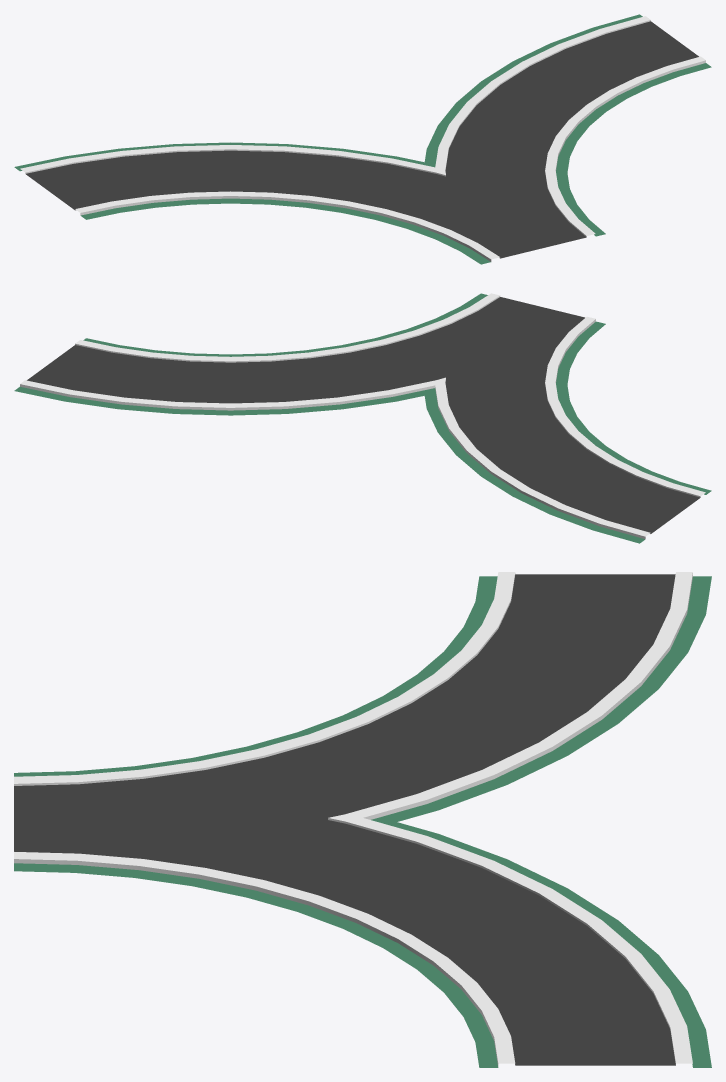
The model's file is roadSplitRoundLarge.glb.
3 renders of one model, top to bottom at view 1: azimuth 30°, elevation 25°; view 2: azimuth 150°, elevation 25°; view 3: azimuth 270°, elevation 25°, orthographic. The views are drawn at different scales.
Visible parts, largest first — view 1: roadSplitRoundLarge(Clone); view 2: roadSplitRoundLarge(Clone); view 3: roadSplitRoundLarge(Clone).
Boxes of the visible parts, x1,y1,x2,y2 form: roadSplitRoundLarge(Clone): (14,14,711,264); roadSplitRoundLarge(Clone): (14,293,711,543); roadSplitRoundLarge(Clone): (14,572,711,1067).
Size of the model in its own units: 5 by 0.02 by 3.
